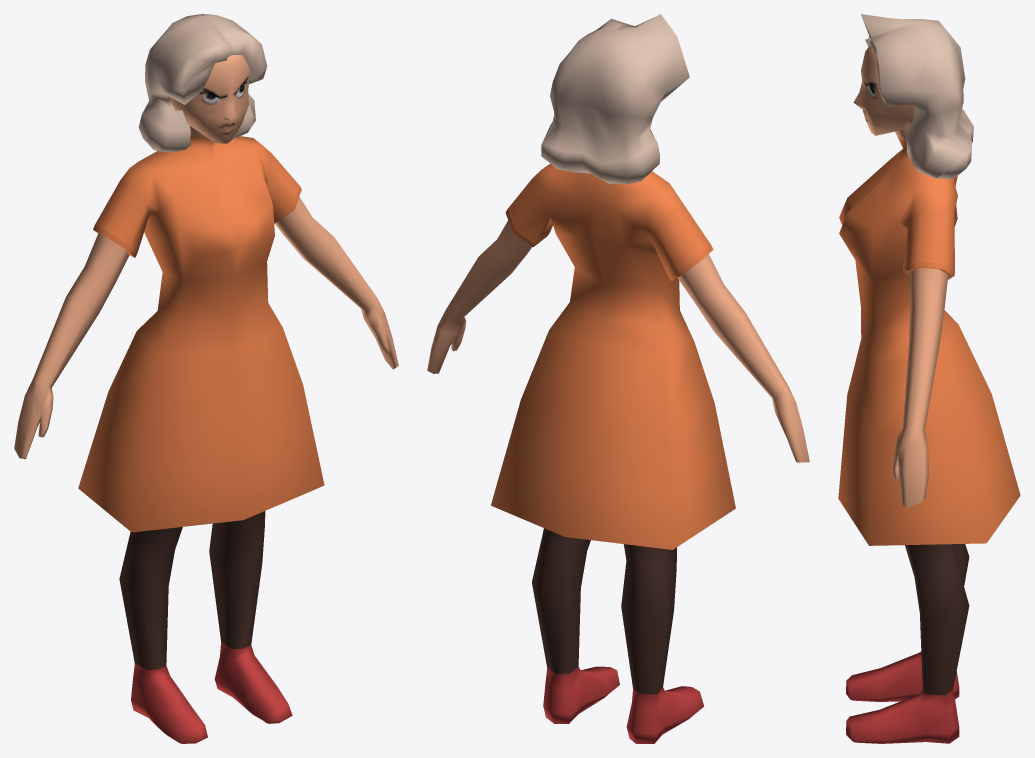
File: CharAngry.fbx
The picture shows the model from 3 angles, left to right: view 1: azimuth 30°, elevation 25°; view 2: azimuth 150°, elevation 25°; view 3: azimuth 270°, elevation 25°; orthographic projection.
Parts seen in each view (by area): view 1: CharAngry; view 2: CharAngry; view 3: CharAngry.
Part boxes in pixels (bbox=[...]): CharAngry: bbox=[14, 14, 398, 743]; CharAngry: bbox=[427, 14, 809, 743]; CharAngry: bbox=[838, 14, 1020, 743].
Size of the model in its own units: 102 by 177 by 42.12.
